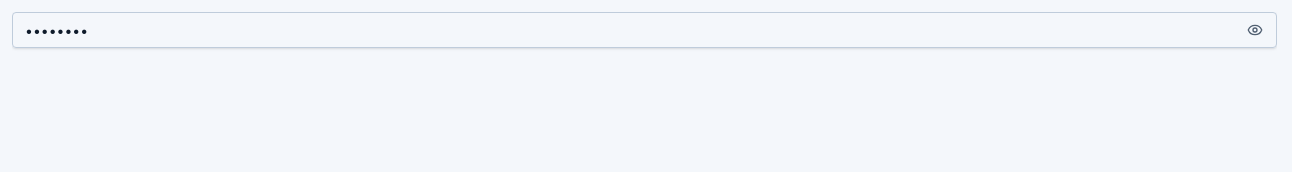
Test: PasswordInput › hides the value by default and reveals it with the eye button
Click the button named "show password". click: (1255, 30)
box: [1237,12,1273,48]
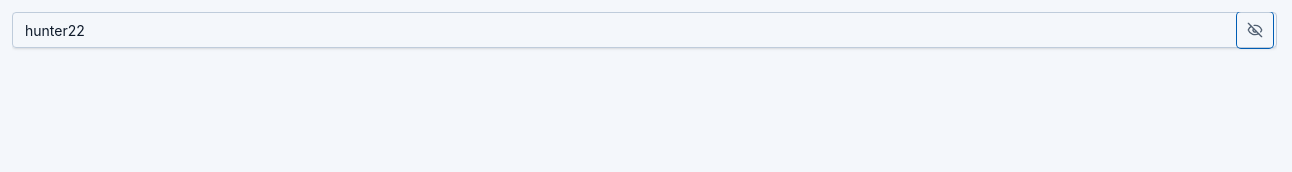
Result: the field named "Secret" shows its text at [12,12,1277,48]
Click the button named "hide password". click: (1255, 30)
box: [1237,12,1273,48]
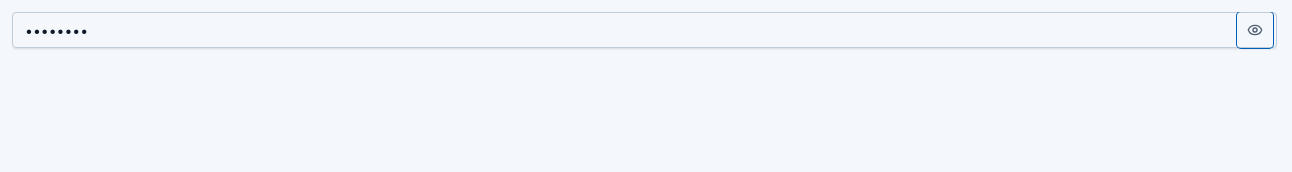
Result: the password field named "Secret" hides its text at [12,12,1277,48]
